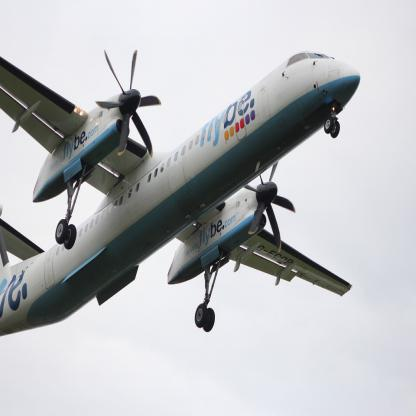CIV_Plane: (0, 48, 364, 364)
